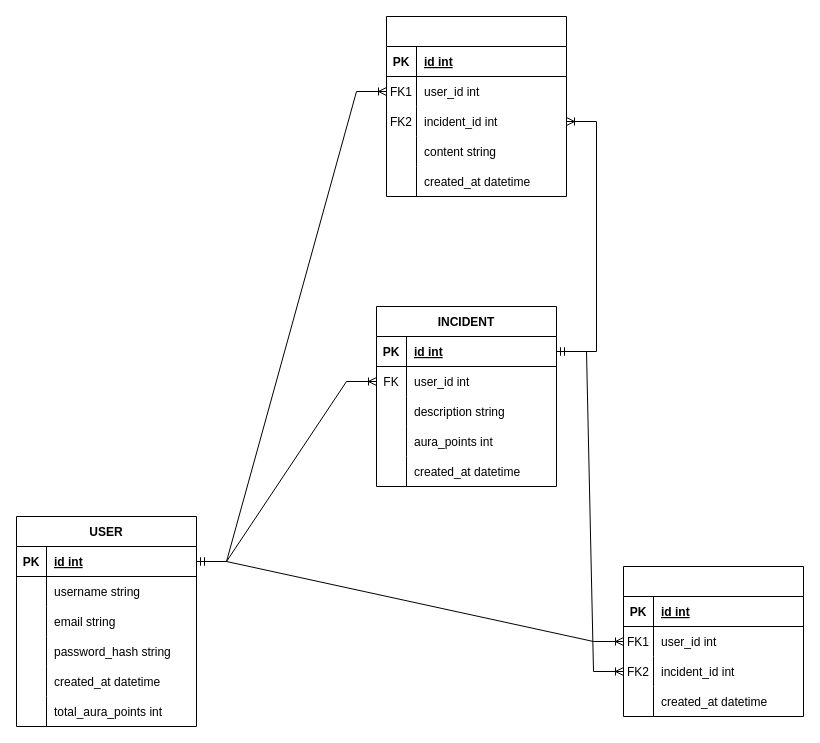
Some shapes in this 820 by 743 pixel diagram are drawn without their labels. Here are the shapes that lost their labels. From the top down, the box of each, then its label:
(386, 16, 566, 196): COMMENT
(622, 566, 804, 716): LIKE
